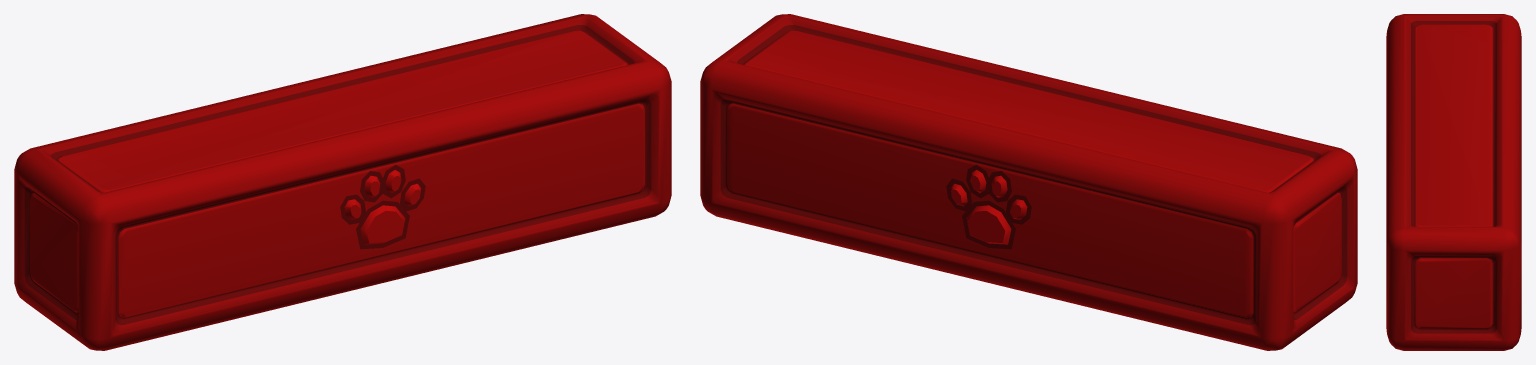
Rendered from kup4.glb.
3 views of the same model, side by side, from view 1: azimuth 30°, elevation 25°; view 2: azimuth 150°, elevation 25°; view 3: azimuth 270°, elevation 25° (orthographic). The views are drawn at different scales.
Parts seen in each view (by area): view 1: kup4; view 2: kup4; view 3: kup4.
Part boxes in pixels (x1,y1,x2,y2): kup4: (14,14,671,350); kup4: (700,14,1357,350); kup4: (1386,14,1521,350).
Bounding box in the file's own units: 6.18 × 1.55 × 1.55.
